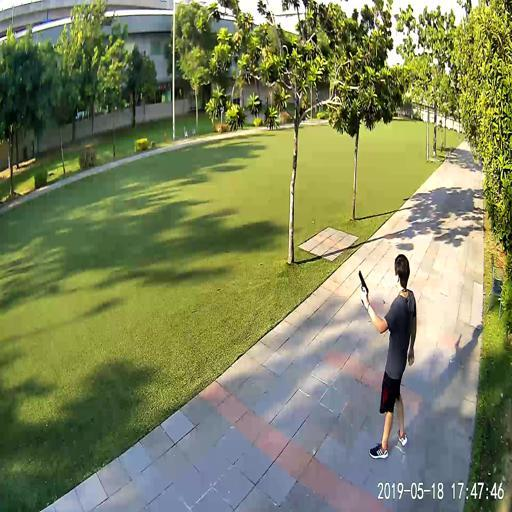Handgun: (356, 267, 368, 292)
